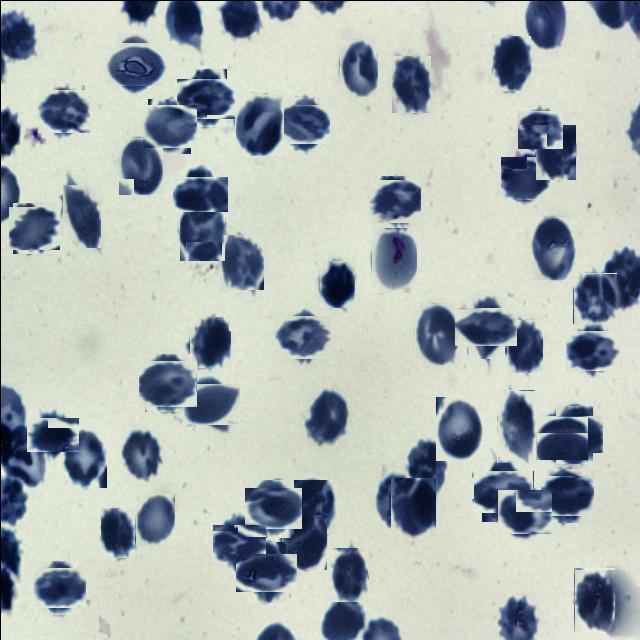red blood cell: (234, 92, 283, 155), (435, 396, 483, 460), (370, 226, 416, 292), (109, 36, 162, 90), (530, 216, 575, 279), (414, 302, 459, 364), (496, 389, 534, 462), (178, 201, 224, 260), (476, 464, 528, 516), (142, 356, 194, 408), (60, 429, 106, 487), (573, 568, 614, 632), (117, 136, 162, 194), (390, 477, 435, 535), (460, 301, 510, 352), (180, 72, 230, 122), (277, 311, 327, 361), (240, 546, 290, 596), (61, 183, 100, 247), (281, 514, 326, 569), (248, 483, 297, 533), (498, 487, 548, 536), (219, 234, 263, 289), (187, 379, 236, 428), (144, 101, 193, 150), (118, 427, 163, 480), (293, 479, 336, 533), (405, 441, 447, 496), (38, 86, 86, 134), (568, 326, 616, 374), (550, 410, 598, 458), (10, 204, 58, 252), (536, 414, 584, 462), (534, 123, 575, 179), (392, 55, 432, 112), (308, 388, 348, 445), (338, 38, 377, 96), (572, 272, 616, 323), (371, 178, 418, 225), (34, 564, 82, 610), (278, 100, 326, 146), (542, 472, 590, 518), (188, 315, 230, 367), (177, 170, 223, 217), (502, 154, 548, 200), (216, 520, 262, 566), (328, 547, 367, 601), (492, 36, 530, 91), (135, 493, 174, 545), (505, 318, 542, 372), (31, 412, 74, 456), (99, 506, 134, 557), (518, 108, 560, 150), (318, 260, 354, 308)
